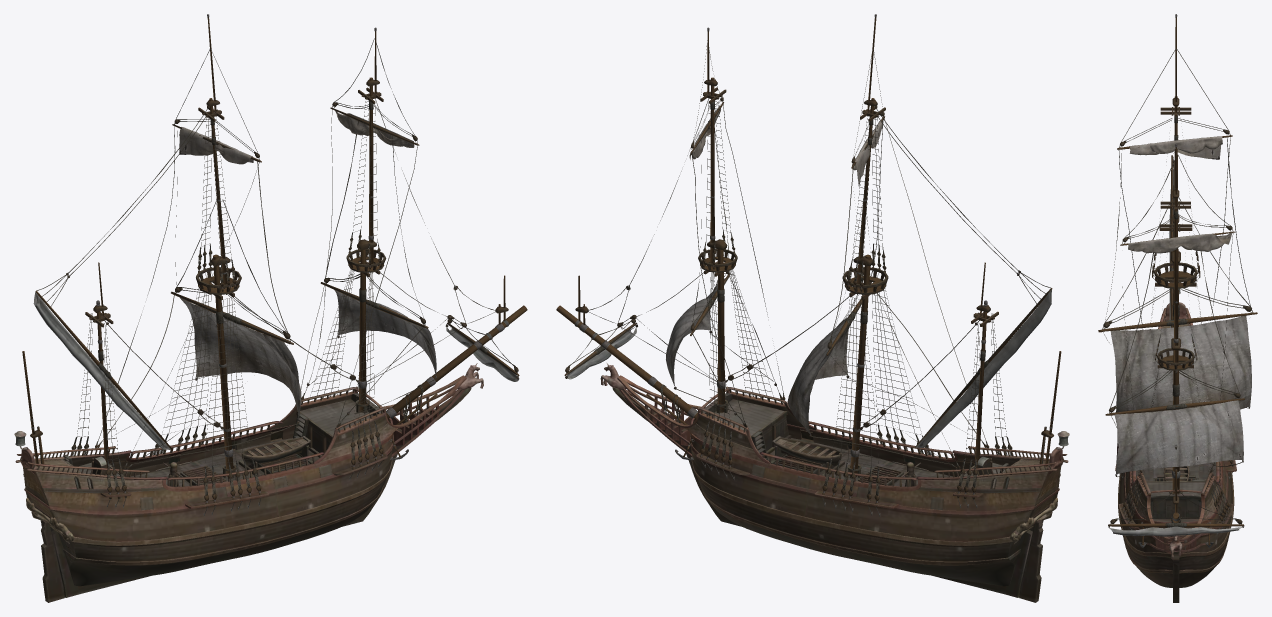
Rendered from fluyt.gltf.
3 renders of one model, left to right at view 1: azimuth 30°, elevation 25°; view 2: azimuth 150°, elevation 25°; view 3: azimuth 270°, elevation 25°, orthographic. The views are drawn at different scales.
Visible parts, largest first — view 1: dutch_ship_medium_hull, dutch_ship_medium_rigging, dutch_ship_medium_sails; view 2: dutch_ship_medium_hull, dutch_ship_medium_rigging, dutch_ship_medium_sails; view 3: dutch_ship_medium_sails, dutch_ship_medium_rigging, dutch_ship_medium_hull.
Boxes of the visible parts, left/top/right/bottom form: dutch_ship_medium_hull: left=14, top=363, right=483, bottom=602; dutch_ship_medium_rigging: left=22, top=14, right=527, bottom=516; dutch_ship_medium_sails: left=179, top=111, right=436, bottom=419; dutch_ship_medium_hull: left=600, top=363, right=1069, bottom=602; dutch_ship_medium_rigging: left=556, top=14, right=1061, bottom=516; dutch_ship_medium_sails: left=666, top=104, right=882, bottom=434; dutch_ship_medium_sails: left=1110, top=136, right=1251, bottom=473; dutch_ship_medium_rigging: left=1098, top=14, right=1257, bottom=547; dutch_ship_medium_hull: left=1115, top=289, right=1236, bottom=602.
Bounding box in the file's own units: 24.07 × 24.66 × 6.81.
Materials: 3 (3 with a texture image).
